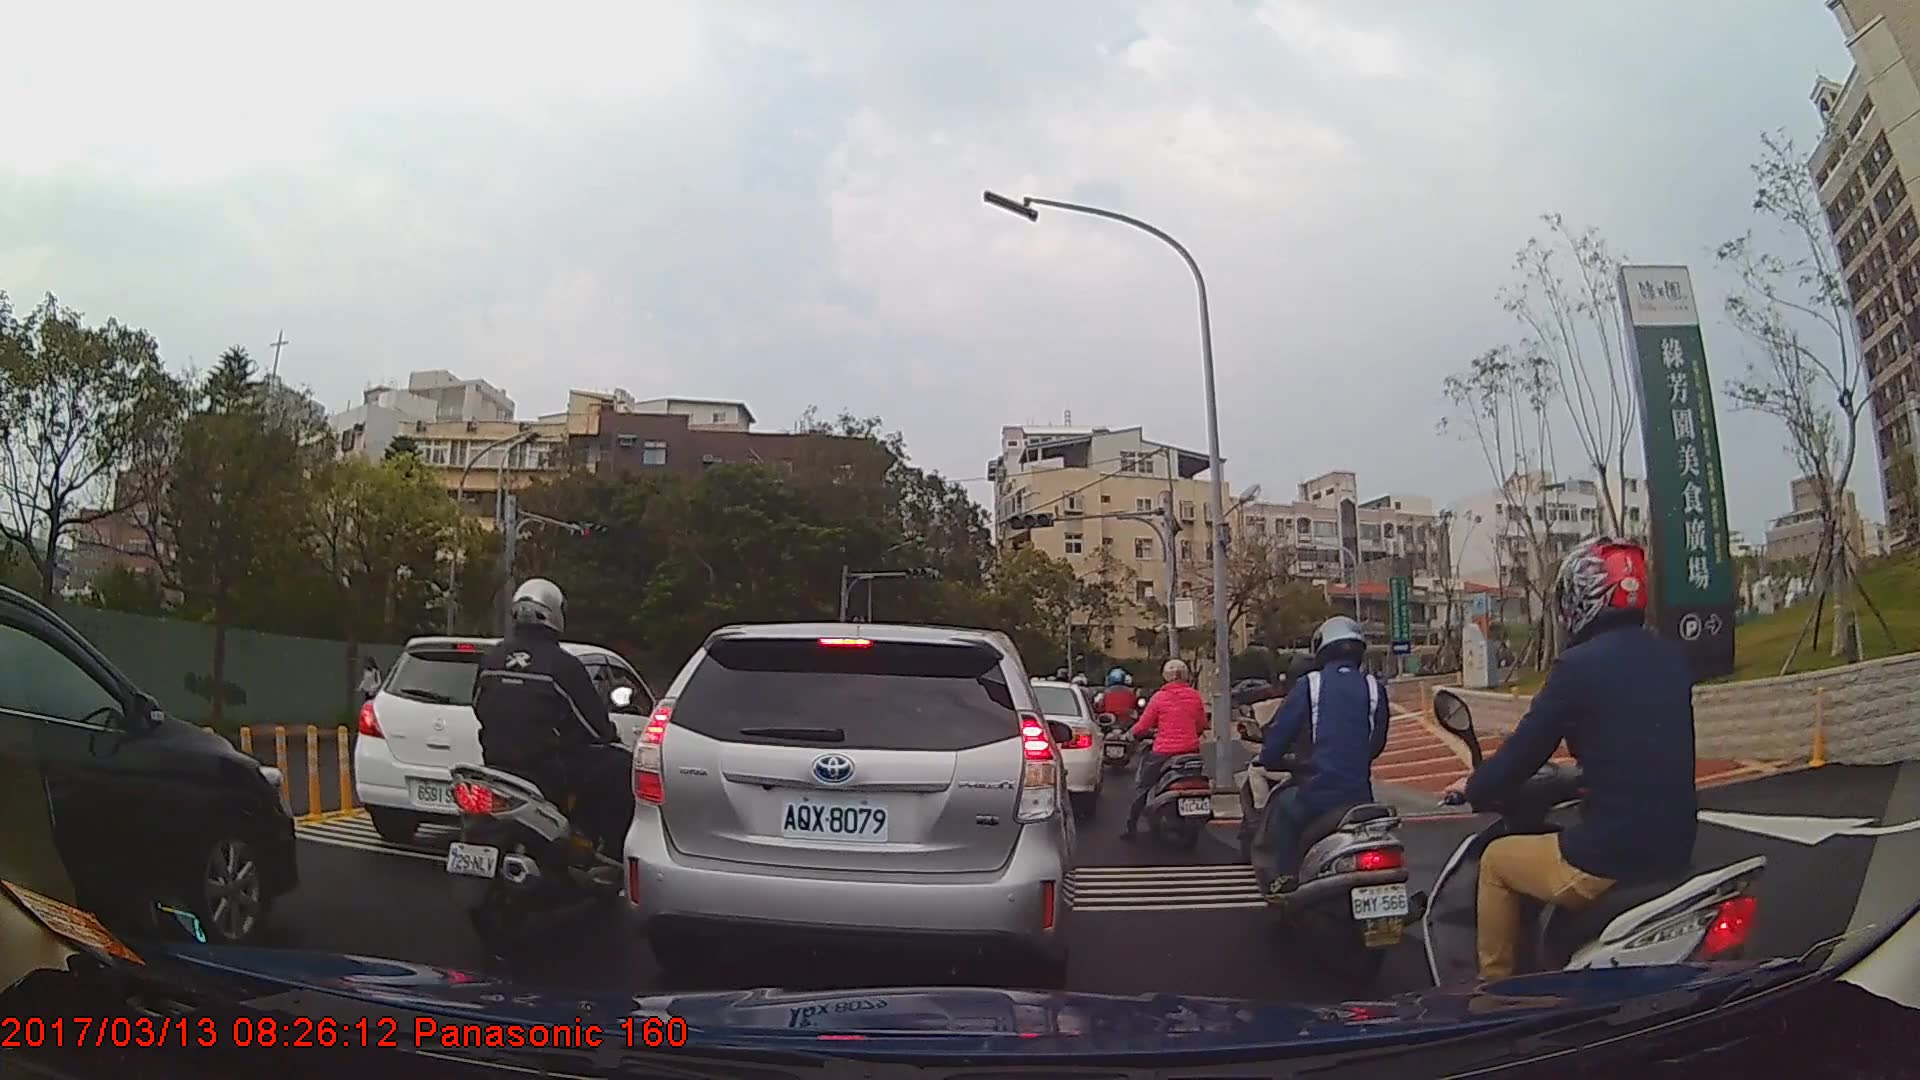pedestrian: (358, 657, 388, 734)
rider: (1430, 527, 1782, 1069), (445, 578, 641, 958), (1245, 614, 1418, 999), (1130, 661, 1219, 856), (1095, 666, 1142, 771)
vehicle: (619, 623, 1078, 1007), (0, 582, 302, 949), (352, 633, 681, 853), (998, 678, 1105, 812), (1217, 678, 1276, 707)
